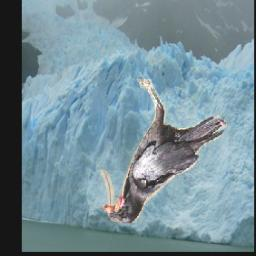Crow: (94, 79, 226, 228)
